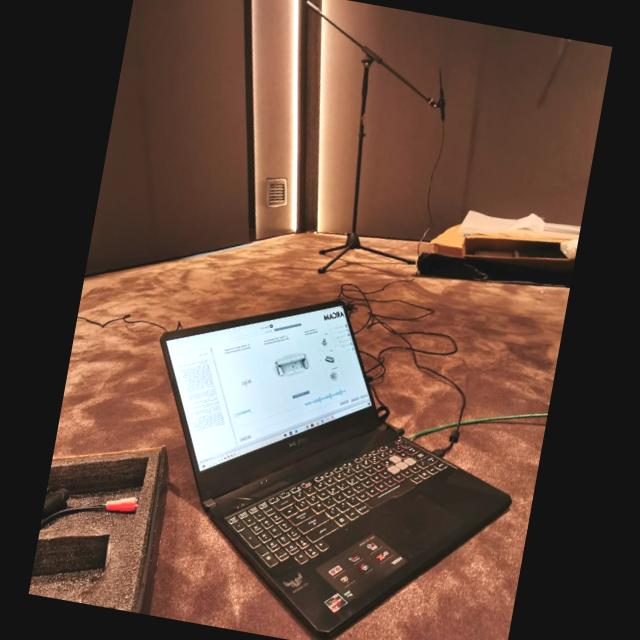laptop: (160, 300, 510, 636)
